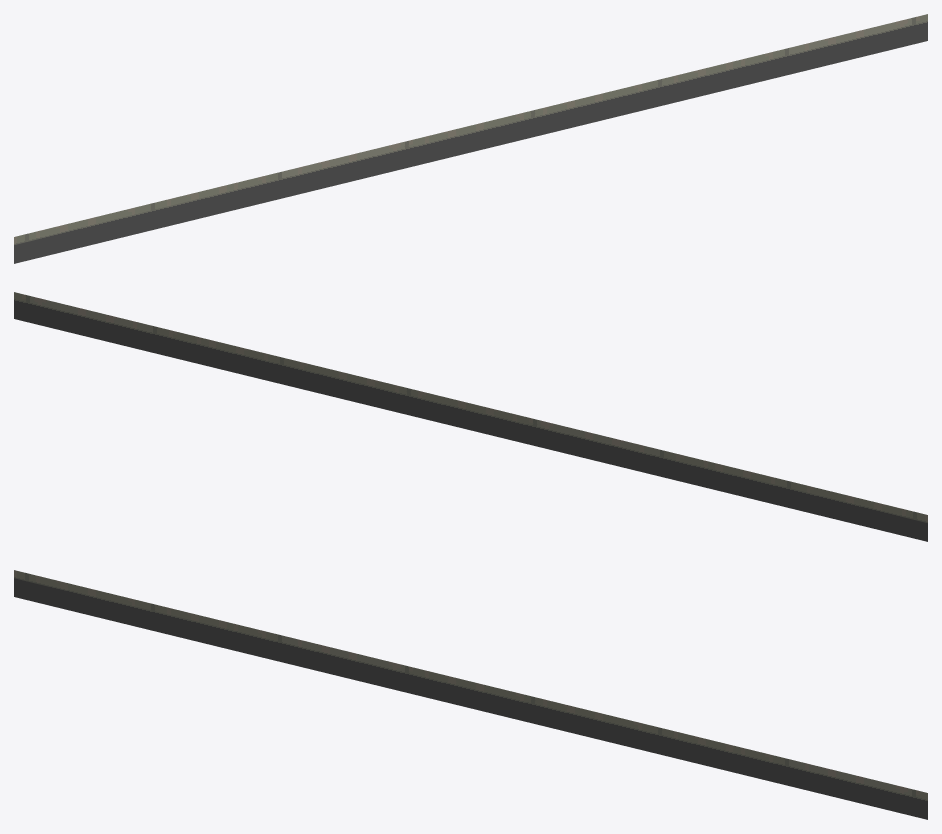
File: kd_stage_135b75_4_94_bounded_piece_6.glb
3 views of the same model, one above another, from view 1: azimuth 30°, elevation 25°; view 2: azimuth 150°, elevation 25°; view 3: azimuth 330°, elevation 25° (orthographic).
Parts seen in each view (by area): view 1: kd_stage_135b75_4_94_bounded_piece_6; view 2: kd_stage_135b75_4_94_bounded_piece_6; view 3: kd_stage_135b75_4_94_bounded_piece_6.
Part boxes in pixels (x1,y1,x2,y2): kd_stage_135b75_4_94_bounded_piece_6: [14, 14, 927, 263]; kd_stage_135b75_4_94_bounded_piece_6: [14, 292, 927, 541]; kd_stage_135b75_4_94_bounded_piece_6: [14, 570, 927, 819].
Bounding box in the file's own units: 2.67 × 0.0753 × 0.
Materials: 1 (1 with a texture image).
